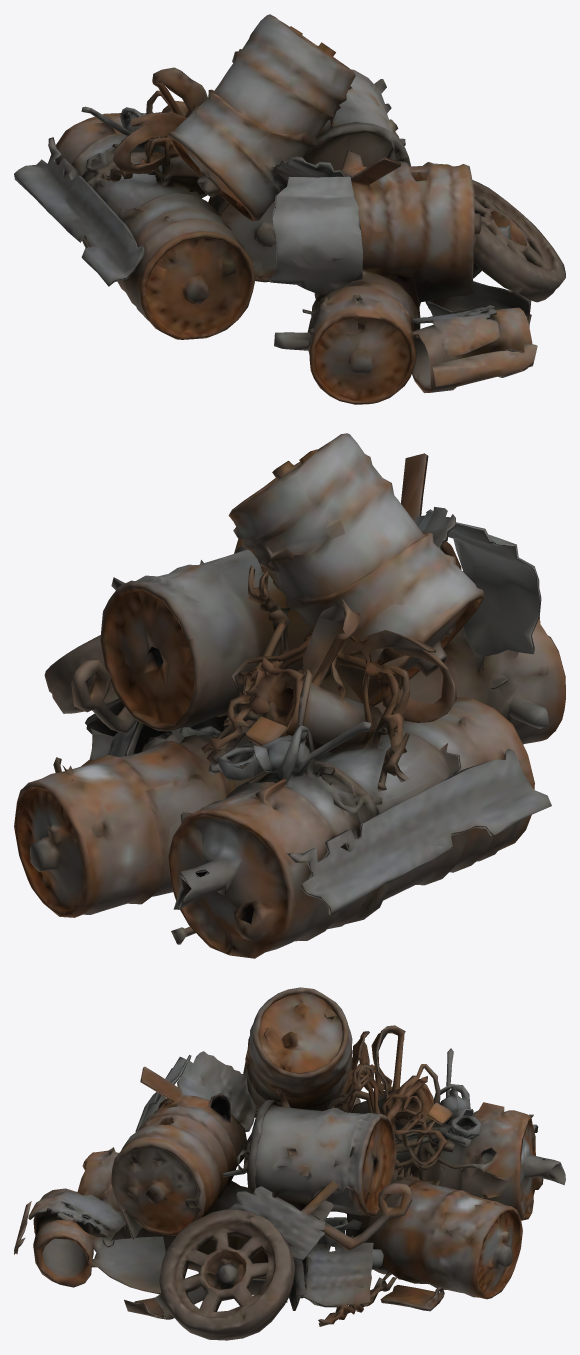
The model's file is junk_heap.f1a32f747f.glb.
3 renders of one model, top to bottom at view 1: azimuth 30°, elevation 25°; view 2: azimuth 150°, elevation 25°; view 3: azimuth 270°, elevation 25°, orthographic. The views are drawn at different scales.
Parts seen in each view (by area): view 1: junk_heap; view 2: junk_heap; view 3: junk_heap.
Part boxes in pixels (box(x1,y1,x2,y2)): junk_heap: box(14, 14, 565, 404); junk_heap: box(14, 433, 565, 958); junk_heap: box(14, 987, 565, 1340).
Bounding box in the file's own units: 2.28 × 1.6 × 3.
Materials: 1 (1 with a texture image).
